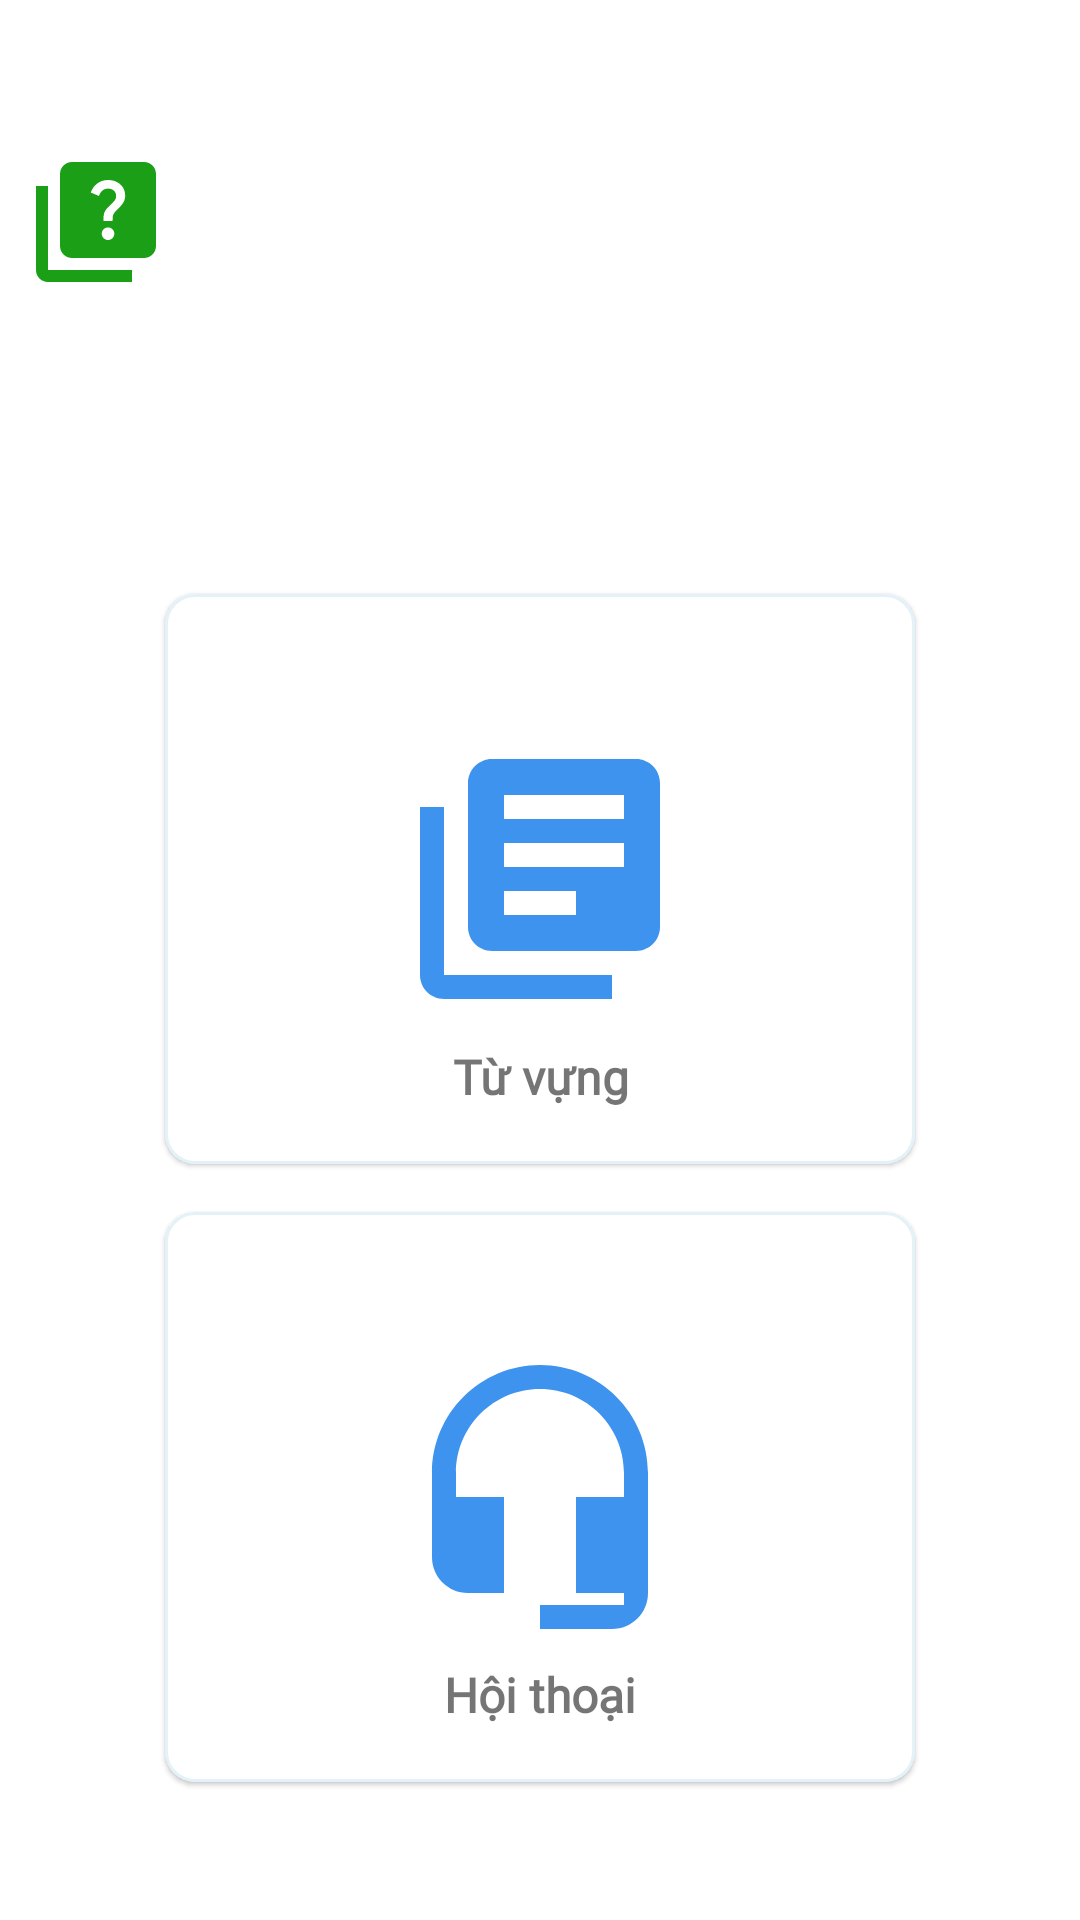

Screen size 1080×1920. Icon name, then its box in pixels as (x1, y1, x2, y2):
headset mic: (432, 1365, 648, 1629)
library books: (420, 759, 660, 999)
